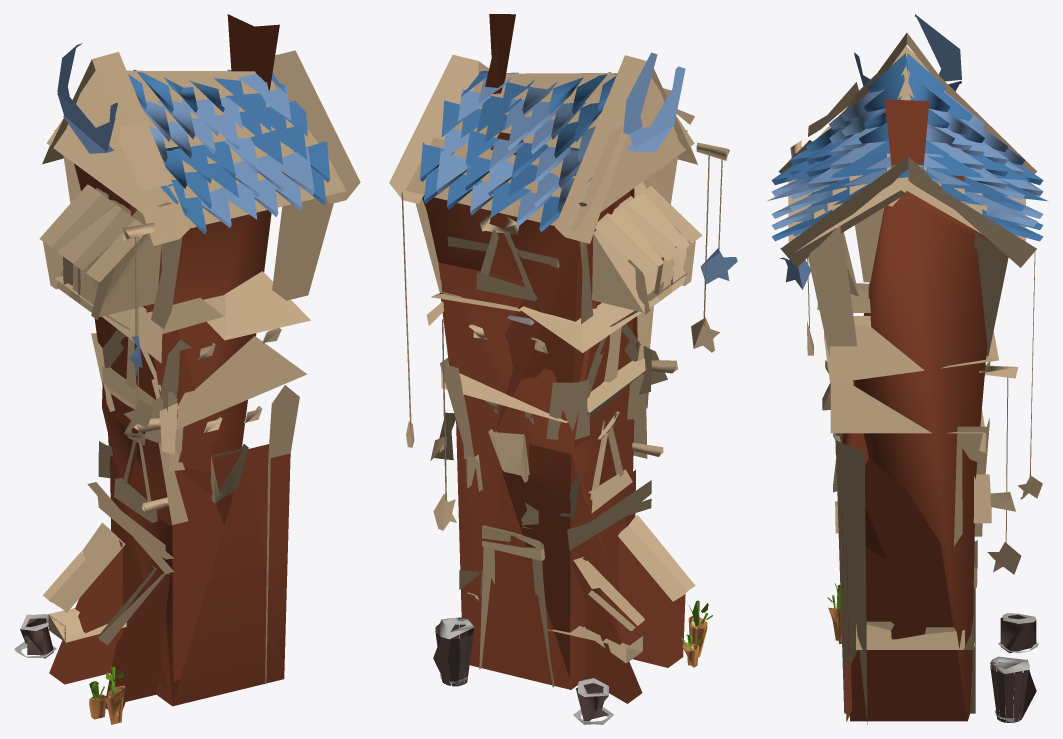
3 renders of one model, left to right at view 1: azimuth 30°, elevation 25°; view 2: azimuth 150°, elevation 25°; view 3: azimuth 270°, elevation 25°, orthographic. The views are drawn at different scales.
Visible parts, largest first — view 1: Box005; view 2: Box005; view 3: Box005.
Part boxes in pixels (x1,y1,x2,y2): Box005: [14, 14, 360, 724]; Box005: [389, 14, 737, 724]; Box005: [766, 14, 1048, 724].
Bounding box in the file's own units: 144 × 390 × 159.
